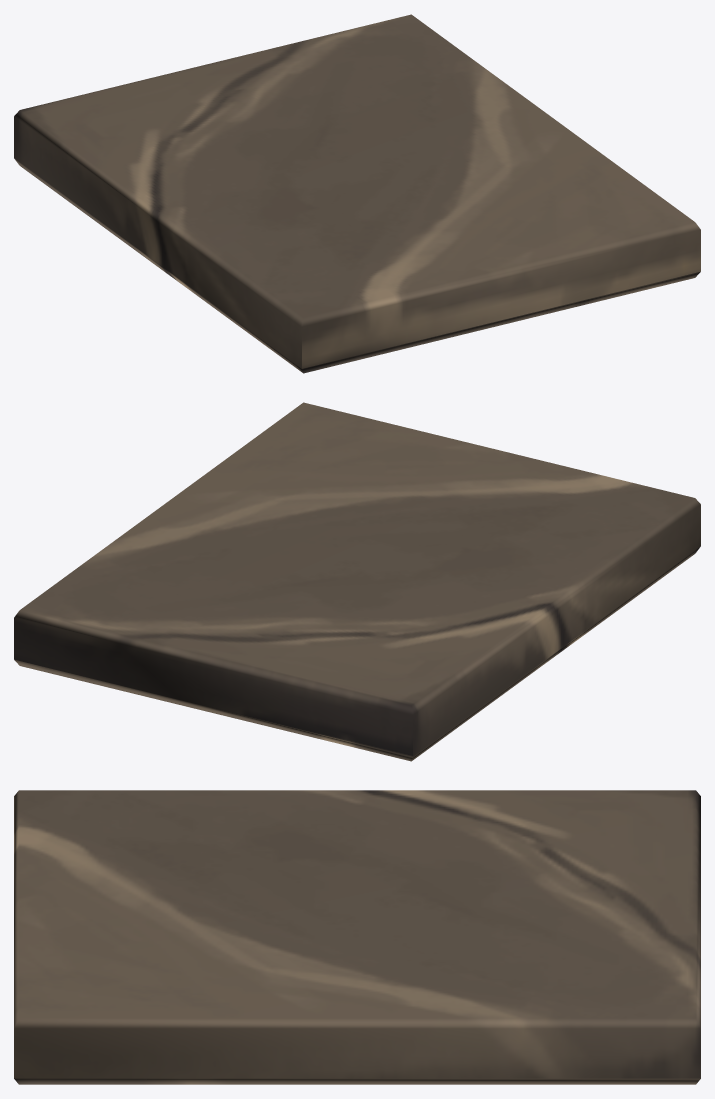
The model's file is Brick_01.fbx.
3 views of the same model, one above another, from view 1: azimuth 30°, elevation 25°; view 2: azimuth 150°, elevation 25°; view 3: azimuth 270°, elevation 25° (orthographic). The views are drawn at different scales.
Visible parts, largest first — view 1: Brick_01; view 2: Brick_01; view 3: Brick_01.
Boxes of the visible parts, x1,y1,x2,y2 form: Brick_01: (14,14,700,373); Brick_01: (14,402,700,761); Brick_01: (14,790,700,1084).
Size of the model in its own units: 111 by 14.83 by 139.
